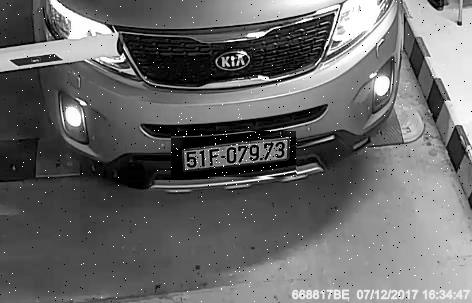License-plate: (173, 133, 299, 180)
